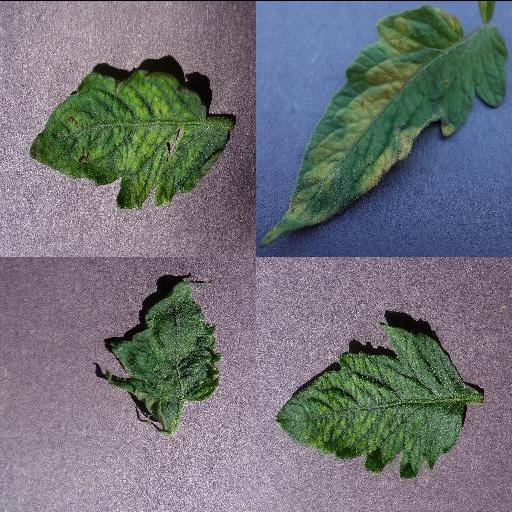Leaf Mold: (259, 5, 509, 247)
Mosaic Virus: (276, 321, 468, 481), (27, 66, 231, 210), (102, 275, 224, 427)
